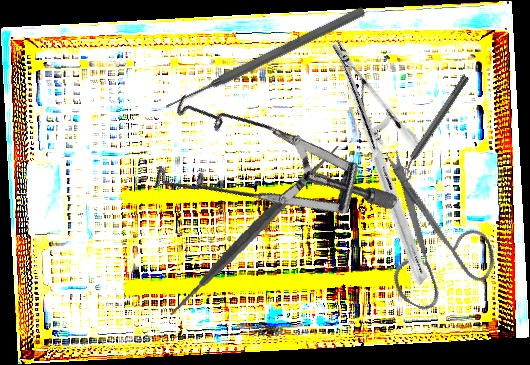Fixation Ring: (391, 72, 476, 183)
Iris Scissors: (328, 145, 521, 330)
Needle Holder: (251, 38, 508, 286)
Pusher: (161, 4, 367, 114)
Spatula Surgical: (156, 131, 354, 330)
Speculum: (121, 34, 402, 318)
